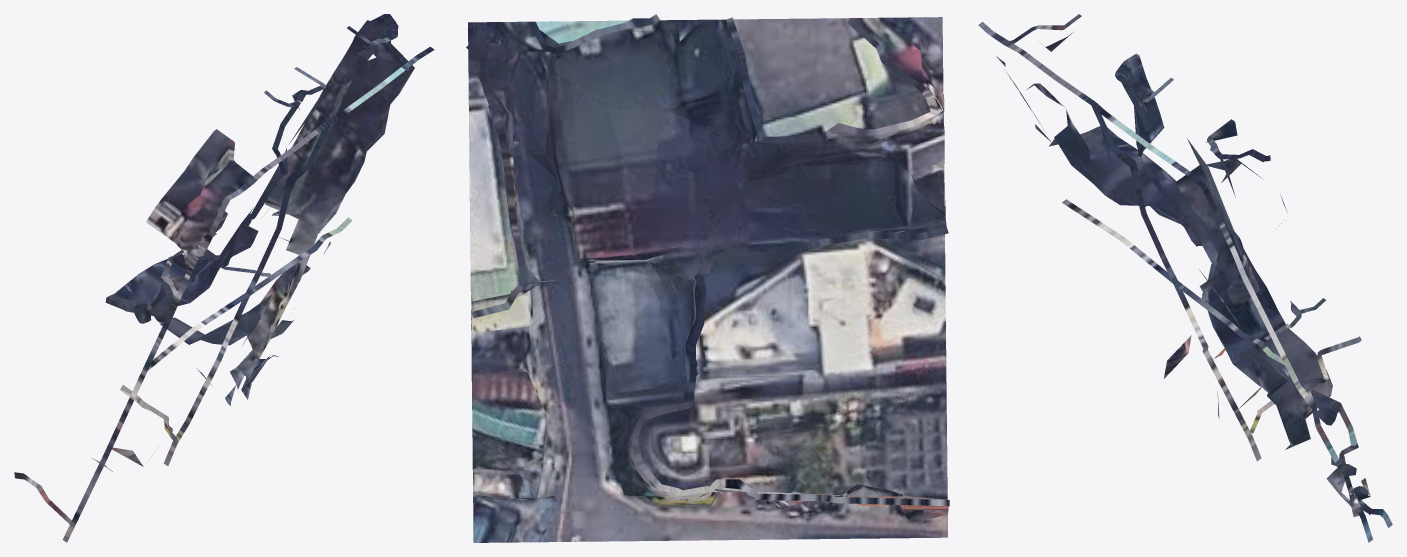
3 renders of one model, left to right at view 1: azimuth 30°, elevation 25°; view 2: azimuth 150°, elevation 25°; view 3: azimuth 270°, elevation 25°, orthographic. The views are drawn at different scales.
Size of the model in its own units: 40.5 by 37.84 by 32.77.
Materials: 2 (2 with a texture image).
